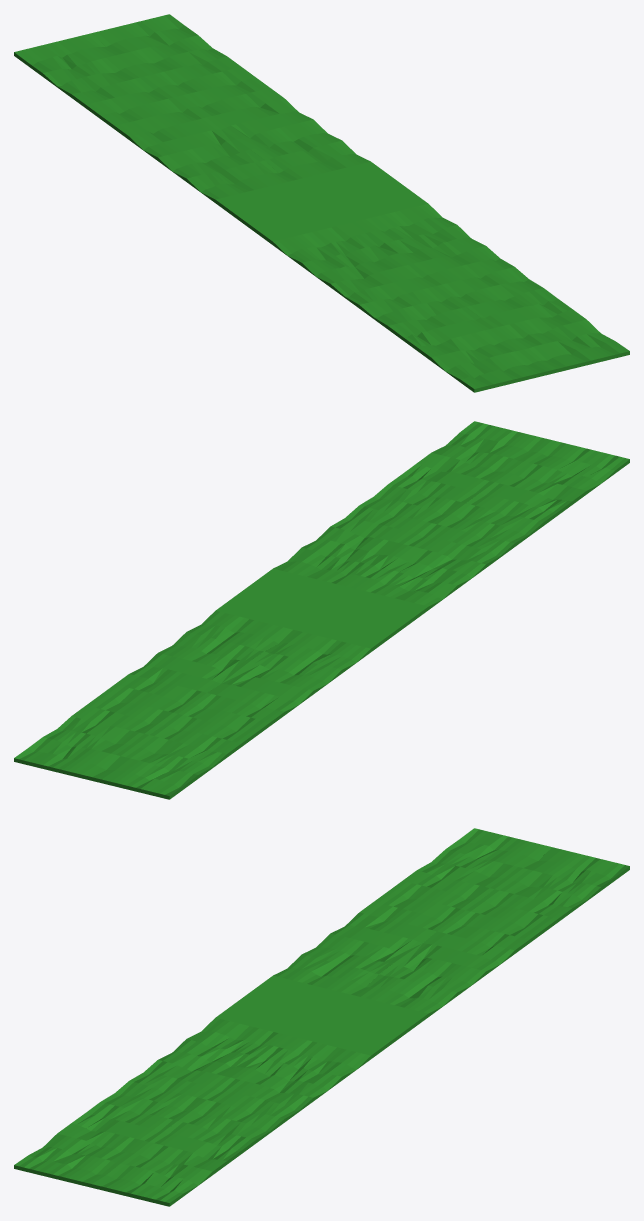
The model's file is Suelo.fbx.
3 renders of one model, top to bottom at view 1: azimuth 30°, elevation 25°; view 2: azimuth 150°, elevation 25°; view 3: azimuth 330°, elevation 25°, orthographic.
Parts seen in each view (by area): view 1: Izquierda.001; view 2: Izquierda.001; view 3: Izquierda.001.
Part boxes in pixels (<box>): Izquierda.001: <box>14,14,629,392</box>; Izquierda.001: <box>14,421,629,799</box>; Izquierda.001: <box>14,828,629,1206</box>.
Bounding box in the file's own units: 777 × 17.81 × 3982.
